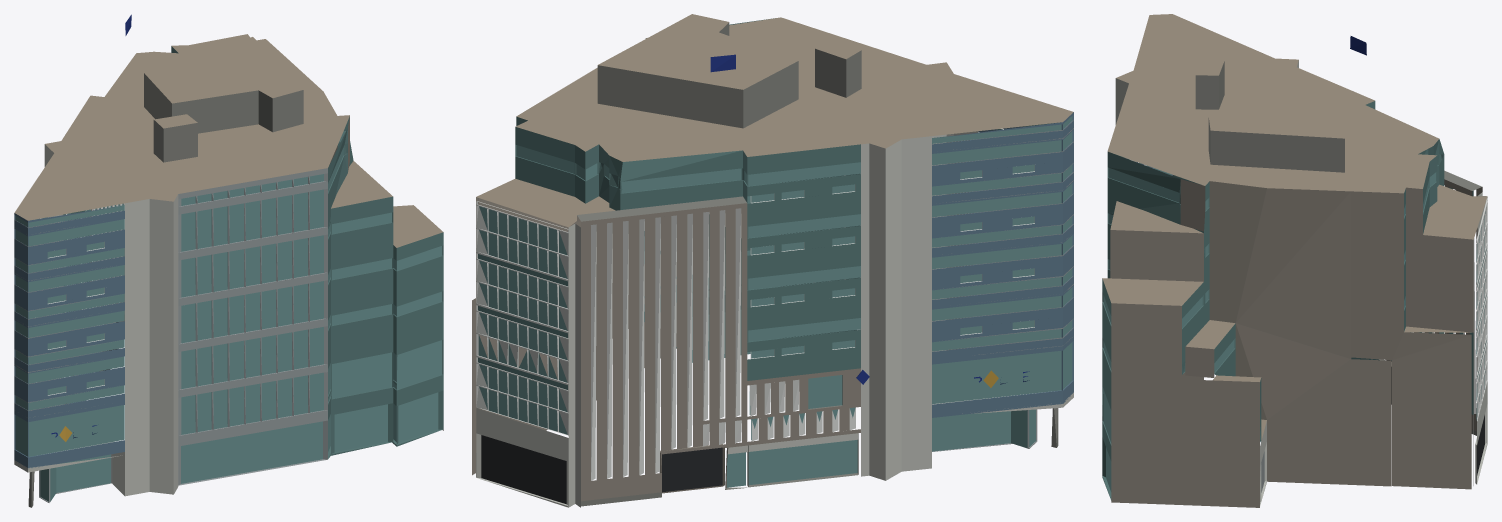
File: politie-nieuwezijds-voorburgwal.lod1.glb
3 renders of one model, left to right at view 1: azimuth 30°, elevation 25°; view 2: azimuth 150°, elevation 25°; view 3: azimuth 270°, elevation 25°, orthographic. The views are drawn at different scales.
Parts seen in each view (by area): view 1: politie-nieuwezijds-voorburgwal; view 2: politie-nieuwezijds-voorburgwal; view 3: politie-nieuwezijds-voorburgwal.
Part boxes in pixels (left/top/right/bottom): politie-nieuwezijds-voorburgwal: left=14, top=14, right=443, bottom=507; politie-nieuwezijds-voorburgwal: left=472, top=14, right=1073, bottom=507; politie-nieuwezijds-voorburgwal: left=1102, top=14, right=1487, bottom=507.
Bounding box in the file's own units: 32.79 × 28.2 × 26.65.
